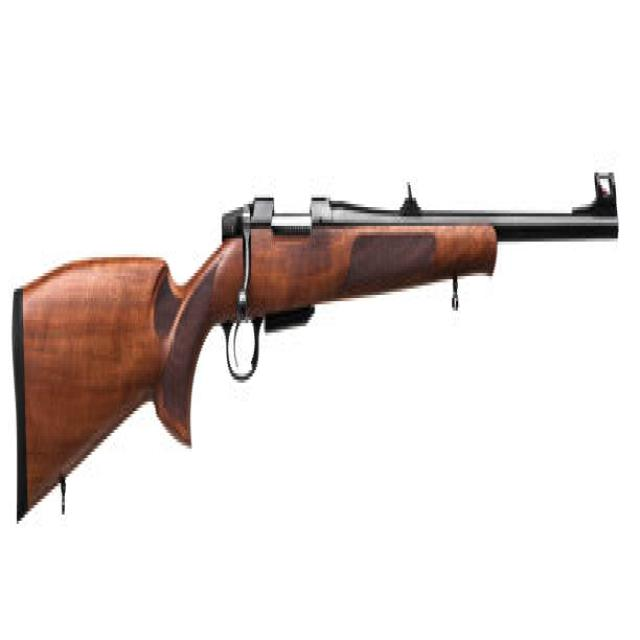rifle: (8, 154, 622, 525)
